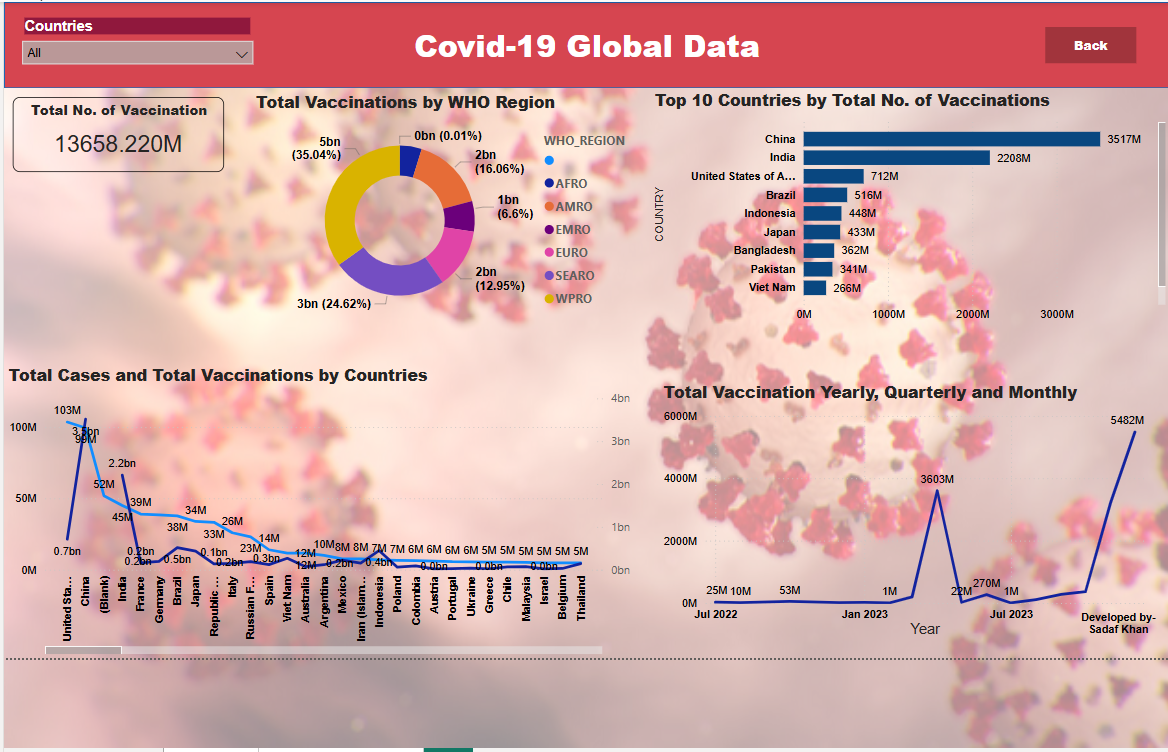

This screenshot's page, from the dashboard's own definition file:
{"tool":"powerbi","page":{"name":"Vaccination Data ","canvas":[1280,720],"ordinal":1},"visuals":[{"type":"clusteredBarChart","title":"Top 10 Countries by Total No. of Vaccinations","fields":{"Category":["vaccination-data.COUNTRY"],"Y":["Sum(vaccination-data.TOTAL_VACCINATIONS)"]},"box":[709.4,94.7,570.8,264.8],"z":0},{"type":"shape","box":[0,0,1280.3,94.7],"z":1000},{"type":"slicer","fields":{"Values":["vaccination-data.COUNTRY"]},"box":[9.8,12.2,273.9,66],"z":2000},{"type":"card","title":"Total No. of Vaccination","fields":{"Values":["Sum(vaccination-data.TOTAL_VACCINATIONS)"]},"box":[9.6,104.3,231.9,82.3],"z":3000},{"type":"donutChart","title":"Total Vaccinations by WHO Region","fields":{"Y":["Sum(vaccination-data.TOTAL_VACCINATIONS)"],"Series":["vaccination-data.WHO_REGION"]},"box":[271.7,97.4,437.7,260.7],"z":4000},{"type":"shape","box":[1166.4,654.5,113.9,54.9],"z":5000},{"type":"lineChart","title":"Total Vaccination Yearly, Quarterly and Monthly","fields":{"Category":["vaccination-data.DATE_UPDATED.Variation.Date Hierarchy.Year","vaccination-data.DATE_UPDATED.Variation.Date Hierarchy.Quarter","vaccination-data.DATE_UPDATED.Variation.Date Hierarchy.Month"],"Y":["Sum(vaccination-data.TOTAL_VACCINATIONS)"]},"box":[719,415.8,551.6,286.8],"z":6000},{"type":"lineChart","title":"Total Cases and Total Vaccinations by Countries","fields":{"Y":["Sum(WHO-COVID-19-global-table-data.Total Cases)"],"Y2":["Sum(vaccination-data.TOTAL_VACCINATIONS)"],"Category":["vaccination-data.COUNTRY"]},"box":[0,396.6,693,323.8],"z":7000},{"type":"actionButton","title":"Back","box":[1143.1,27.4,100.2,39.8],"z":8000}]}

Visuals, with their boxes on the page's 1280x720 design canvas (x1, y1, x2, y2). These are canvas units, not pixel positions in the 1168x752 screenshot, which may show the page scaled, cropped or inside an application window:
"Top 10 Countries by Total No. of Vaccinations" clusteredBarChart: x1=709, y1=95, x2=1280, y2=360
shape: x1=0, y1=0, x2=1280, y2=95
slicer - vaccination-data.COUNTRY: x1=10, y1=12, x2=284, y2=78
"Total No. of Vaccination" card: x1=10, y1=104, x2=242, y2=187
"Total Vaccinations by WHO Region" donutChart: x1=272, y1=97, x2=709, y2=358
shape: x1=1166, y1=654, x2=1280, y2=709
"Total Vaccination Yearly, Quarterly and Monthly" lineChart: x1=719, y1=416, x2=1271, y2=703
"Total Cases and Total Vaccinations by Countries" lineChart: x1=0, y1=397, x2=693, y2=720
"Back" actionButton: x1=1143, y1=27, x2=1243, y2=67
